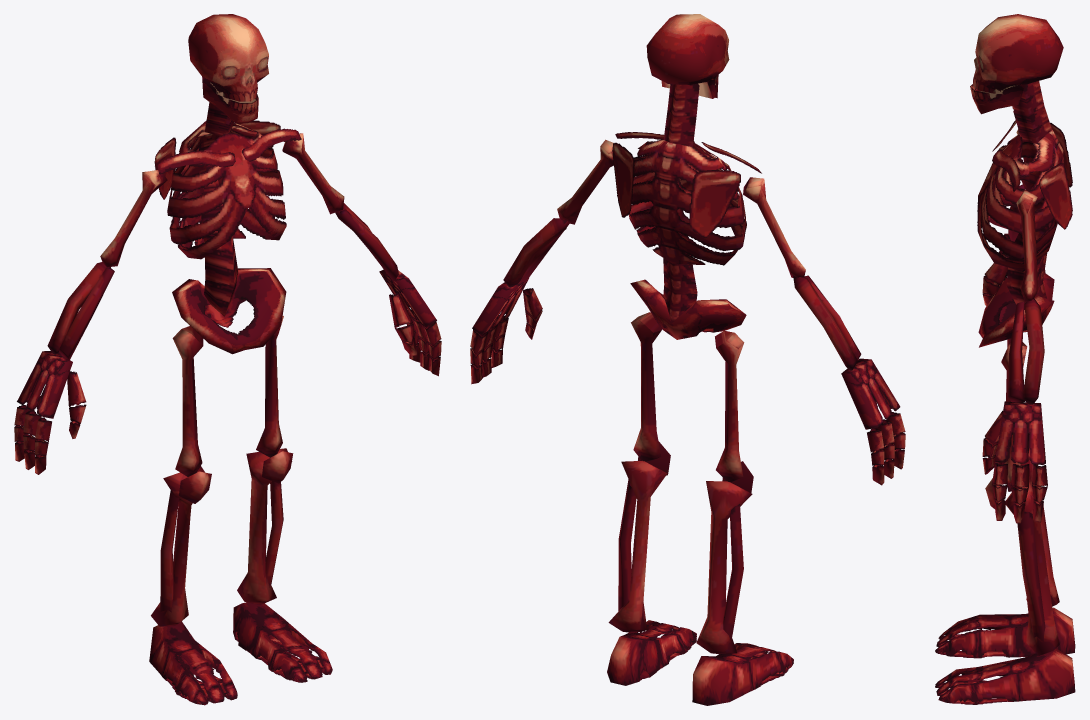
File: skel_base_3f169249.glb
3 views of the same model, side by side, from view 1: azimuth 30°, elevation 25°; view 2: azimuth 150°, elevation 25°; view 3: azimuth 270°, elevation 25° (orthographic).
Size of the model in its own units: 1.7 by 2.55 by 0.5036.
Materials: 1 (1 with a texture image).
